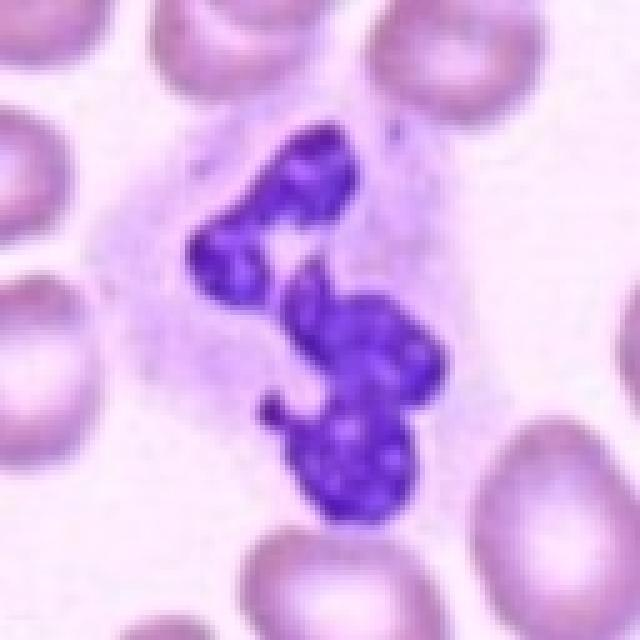neutro: (97, 104, 549, 526)
